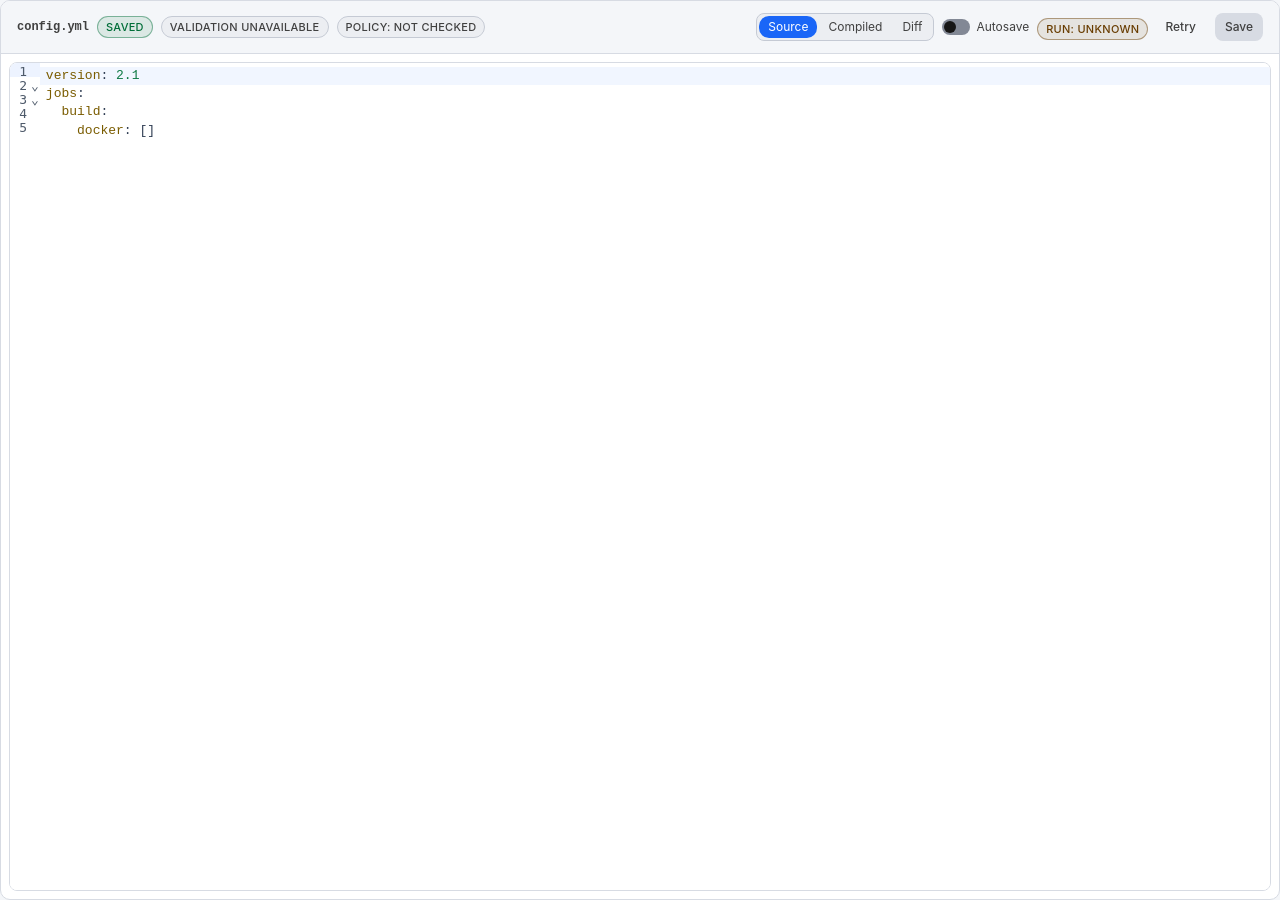
Scenario: YamlPane › explains a missing token honestly, distinct from an invalid config
Click the button "Compiled" at (856, 27), box [820, 16, 892, 38]
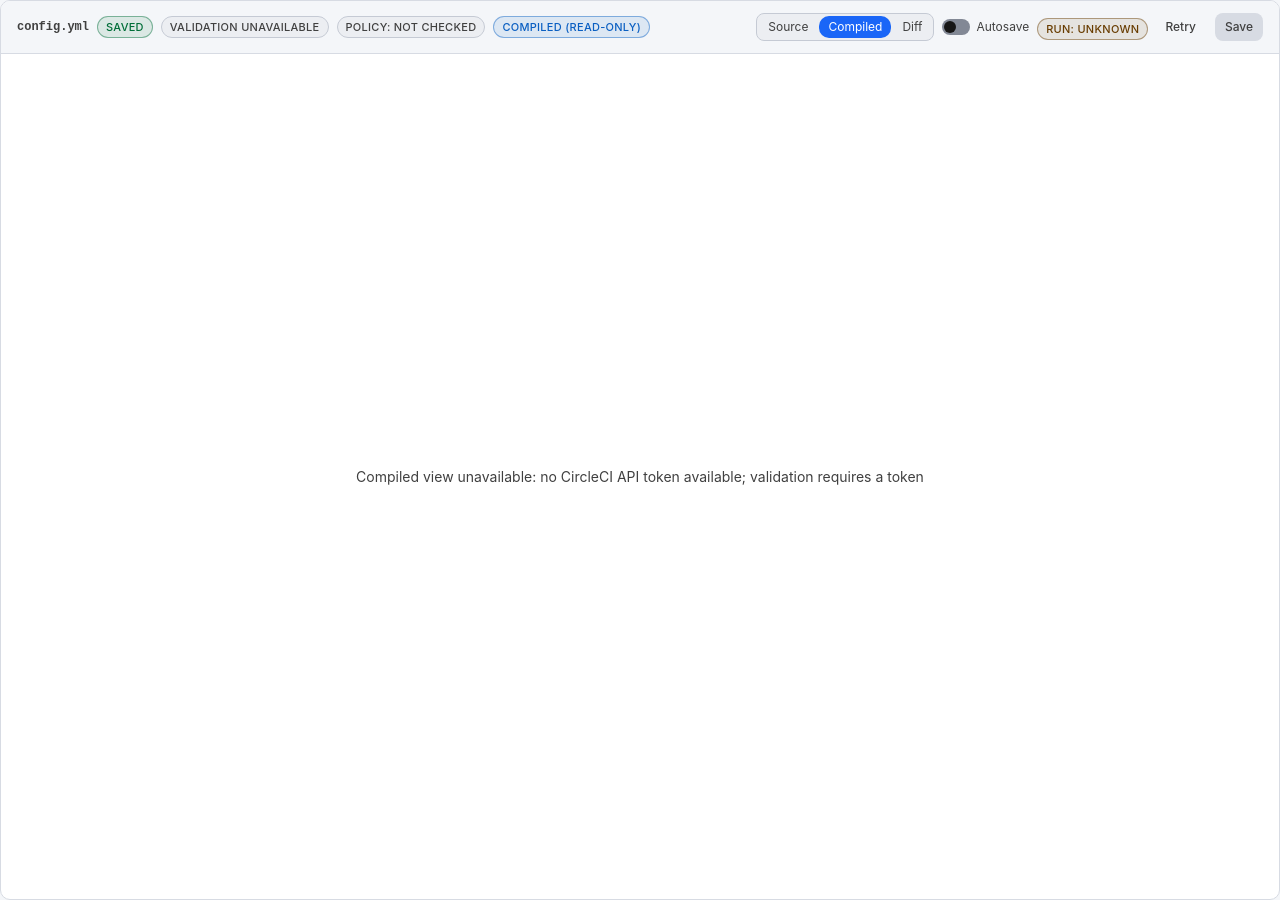
Result: the text "no CircleCI API token available" is shown at [532, 468, 924, 484]
